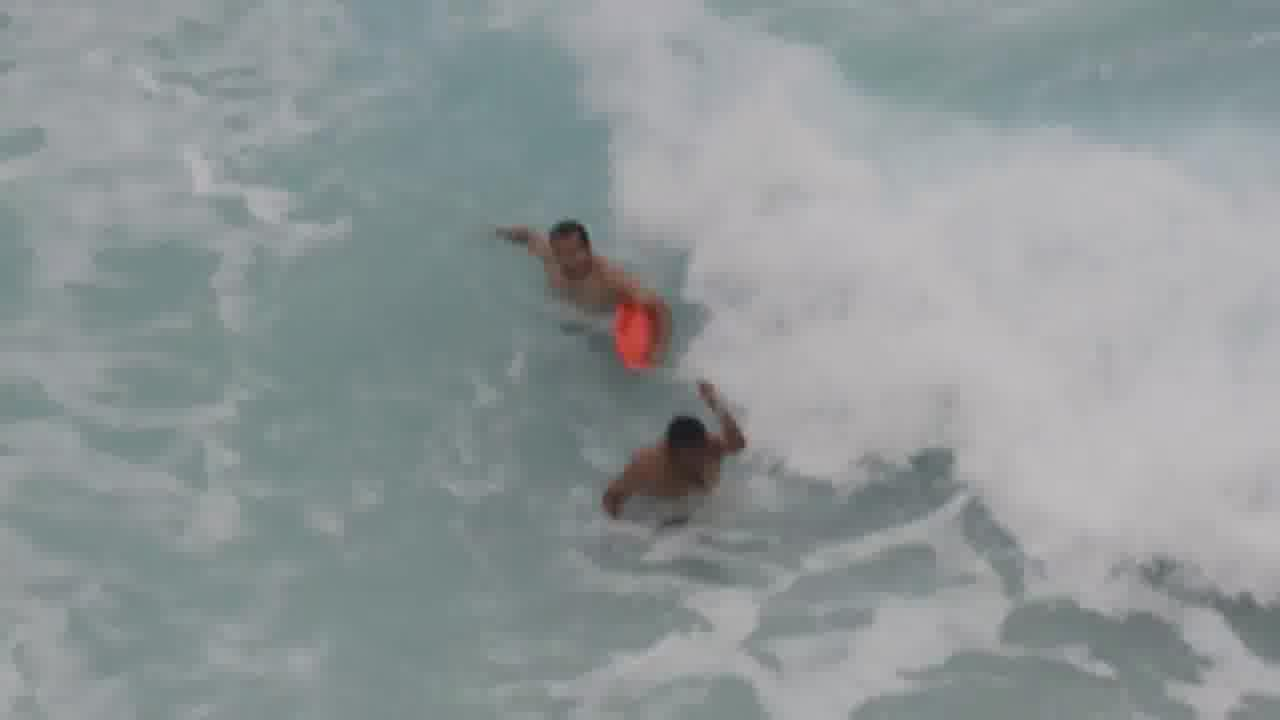human: (624, 400, 761, 509), (518, 198, 635, 315)
